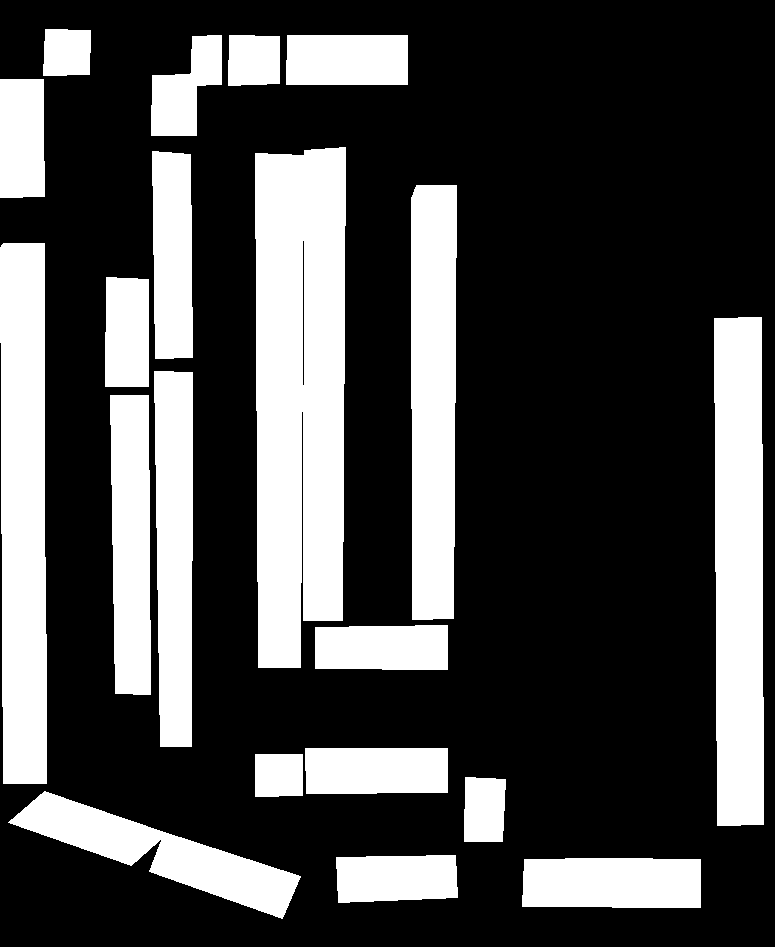parkingspot: (714, 317, 763, 825), (0, 243, 46, 783), (255, 153, 303, 667), (303, 147, 345, 620), (411, 185, 456, 619), (154, 371, 192, 746), (149, 832, 300, 918), (110, 395, 150, 694), (8, 791, 167, 865), (522, 858, 700, 907), (152, 151, 192, 358), (305, 748, 447, 793), (286, 35, 407, 84), (315, 625, 447, 669), (336, 855, 457, 902), (0, 79, 44, 197), (105, 277, 148, 386), (151, 74, 196, 135), (464, 777, 505, 841), (228, 35, 279, 85), (43, 29, 90, 75), (255, 754, 302, 796), (190, 35, 221, 85)
